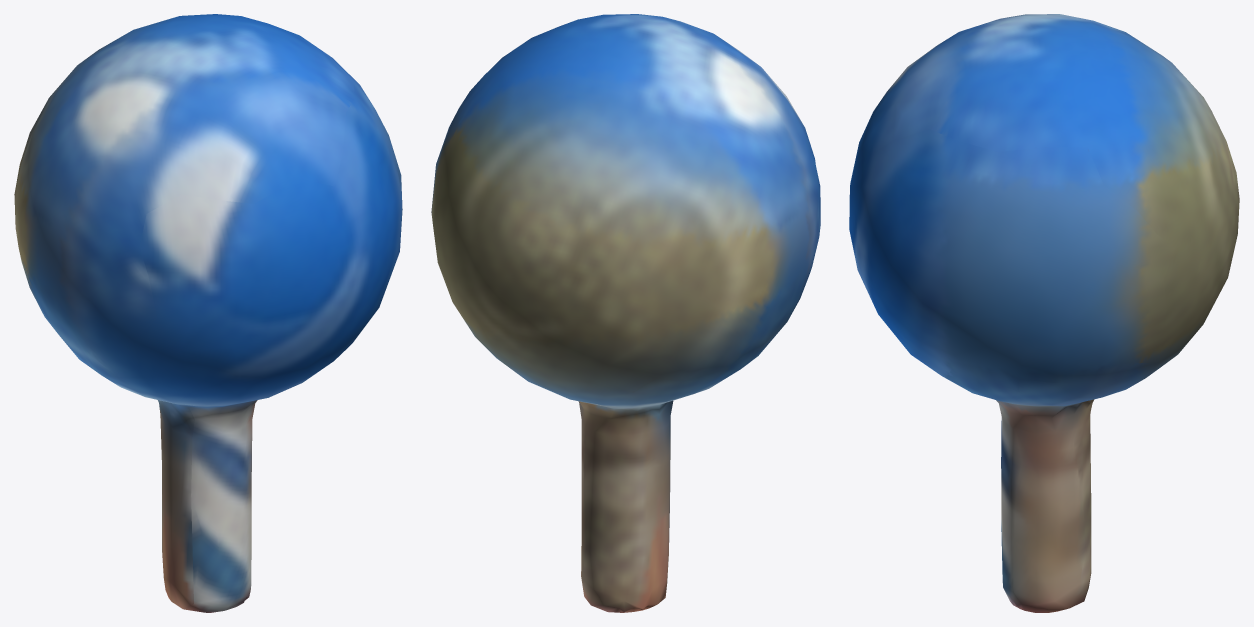
The model's file is CF_Lollipop_Blue.fbx.
The picture shows the model from 3 angles, left to right: view 1: azimuth 30°, elevation 25°; view 2: azimuth 150°, elevation 25°; view 3: azimuth 270°, elevation 25°; orthographic projection.
Parts seen in each view (by area): view 1: CF_Lollipop_Blue; view 2: CF_Lollipop_Blue; view 3: CF_Lollipop_Blue.
Boxes of the visible parts, x1,y1,x2,y2 form: CF_Lollipop_Blue: (14,14,402,612); CF_Lollipop_Blue: (431,14,820,612); CF_Lollipop_Blue: (849,14,1239,612).
Bounding box in the file's own units: 0.5596 × 0.9 × 0.5586.
